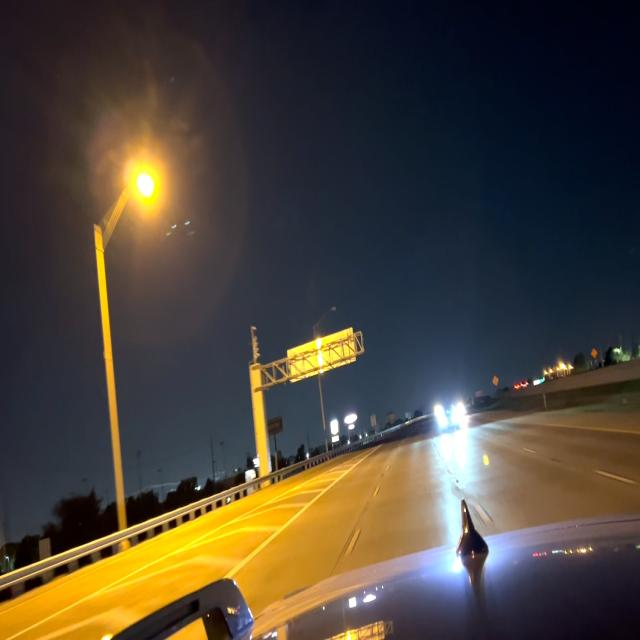back-of-sign: (288, 325, 356, 385)
